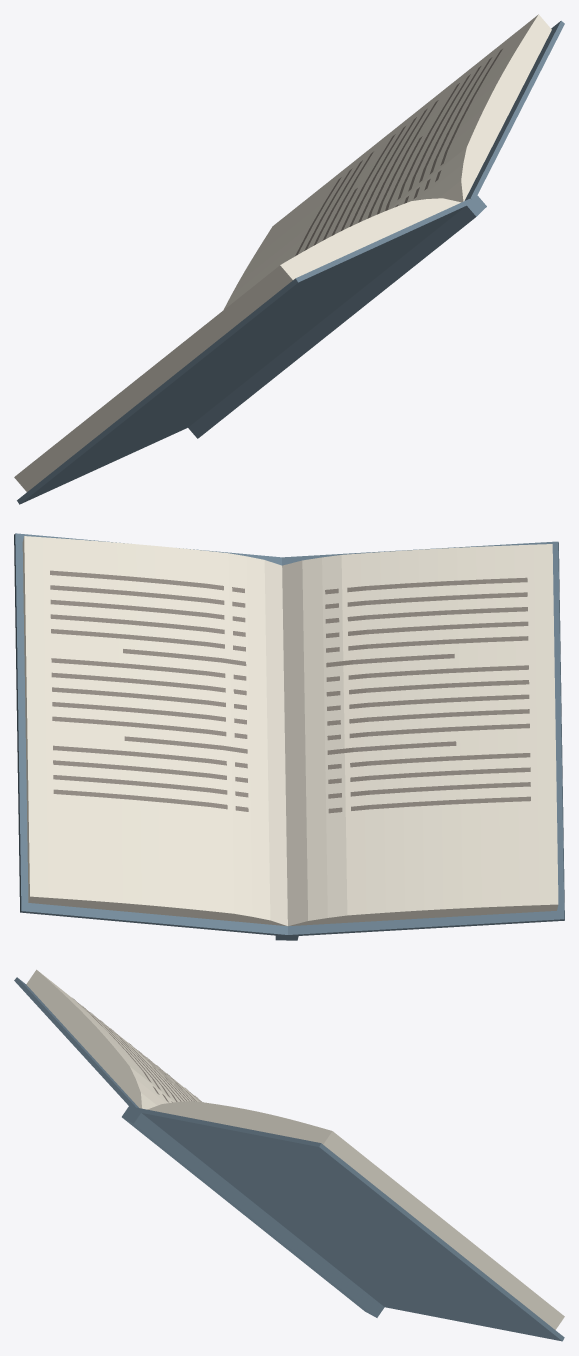
The model's file is book.glb.
The picture shows the model from 3 angles, top to bottom: view 1: azimuth 30°, elevation 25°; view 2: azimuth 150°, elevation 25°; view 3: azimuth 270°, elevation 25°; orthographic projection. The views are drawn at different scales.
Visible parts, largest first — view 1: Reading v2 • book pages.004, Reading v2 • book cover.005, Reading v2 • book pages.005, Reading v2 • book spine.002, Reading v2 • book print.004, Reading v2 • book cover.004; view 2: Reading v2 • book pages.005, Reading v2 • book pages.004, Reading v2 • book print.005, Reading v2 • book print.004, Reading v2 • book cover.004, Reading v2 • book cover.005; view 3: Reading v2 • book cover.004, Reading v2 • book pages.004, Reading v2 • book pages.005, Reading v2 • book spine.002, Reading v2 • book cover.005, Reading v2 • book print.005.
Boxes of the visible parts, box(x1,y1,x2,y2) form: Reading v2 • book pages.004: box(223, 14, 551, 309); Reading v2 • book cover.005: box(17, 198, 472, 504); Reading v2 • book pages.005: box(14, 198, 460, 491); Reading v2 • book spine.002: box(188, 194, 486, 438); Reading v2 • book print.004: box(295, 49, 502, 256); Reading v2 • book cover.004: box(464, 20, 564, 201); Reading v2 • book pages.005: box(282, 544, 558, 926); Reading v2 • book pages.004: box(22, 536, 287, 926); Reading v2 • book print.005: box(325, 577, 530, 813); Reading v2 • book print.004: box(50, 570, 248, 811); Reading v2 • book cover.004: box(14, 533, 287, 936); Reading v2 • book cover.005: box(282, 541, 564, 936); Reading v2 • book cover.004: box(134, 1107, 564, 1341); Reading v2 • book pages.004: box(147, 1101, 564, 1329); Reading v2 • book pages.005: box(26, 969, 201, 1109); Reading v2 • book spine.002: box(122, 1106, 384, 1317); Reading v2 • book cover.005: box(14, 977, 138, 1110); Reading v2 • book print.005: box(73, 998, 201, 1102).
Size of the model in its own units: 0.3289 by 0.1943 by 0.3018.
